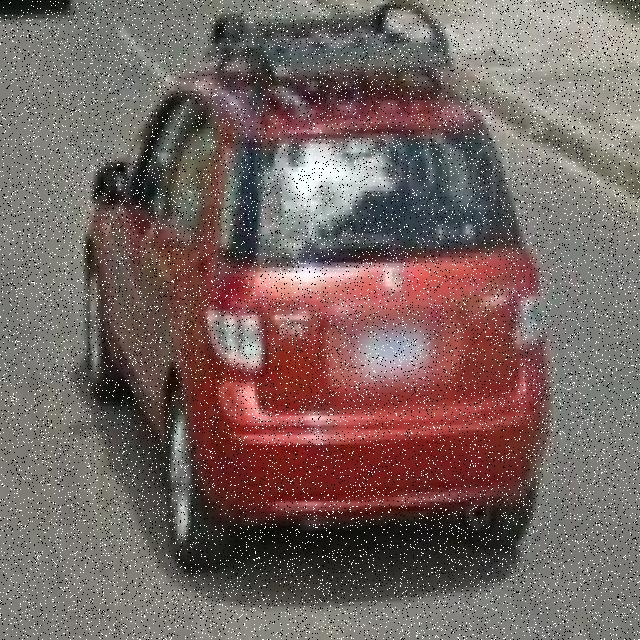cars: (72, 23, 561, 575)
